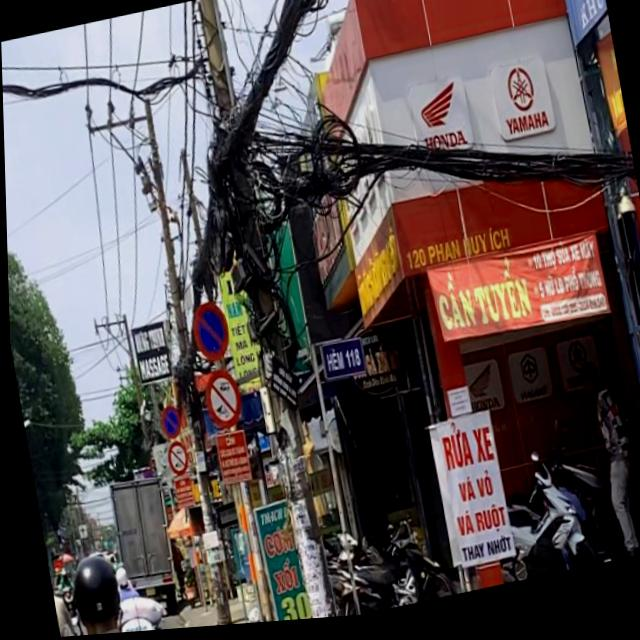Cam do xe: (187, 302, 231, 369), (156, 405, 182, 443)
